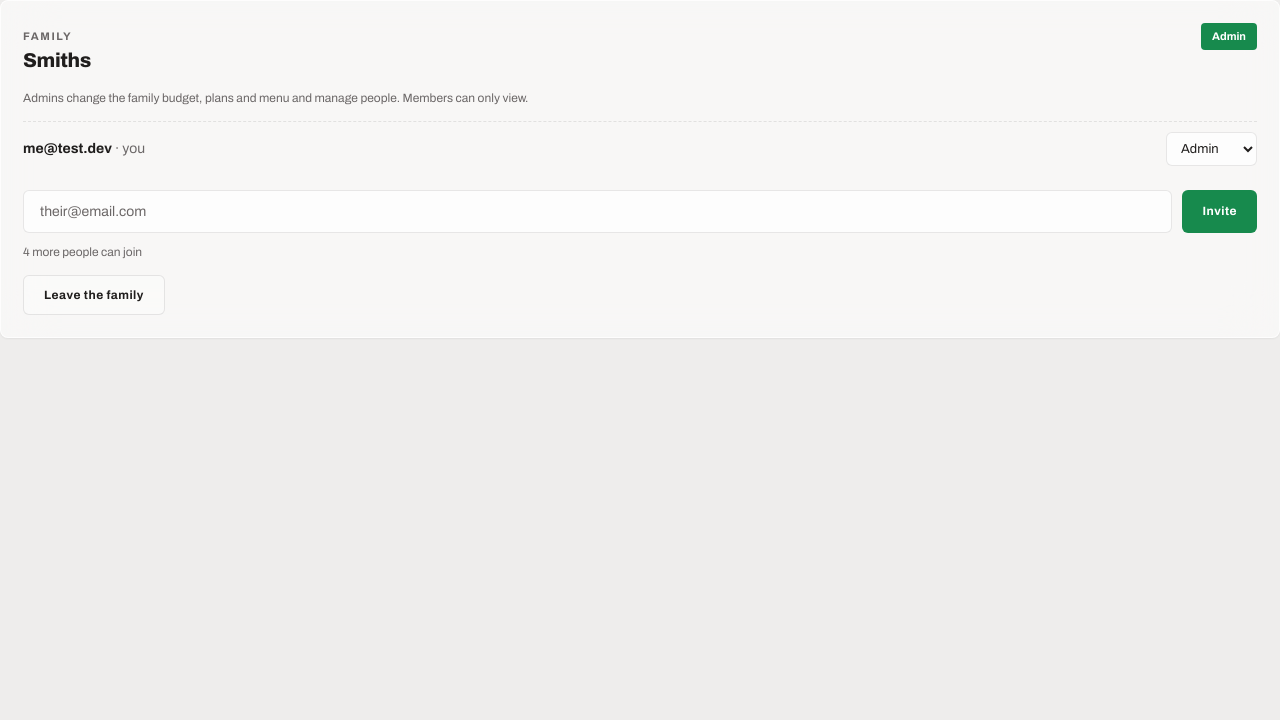
Test case: family section on the profile › warns the last person that leaving deletes the family
The image size is (1280, 720).
Click the button "Leave the family" at (94, 294), box x1=23 y1=274 x2=165 y2=314
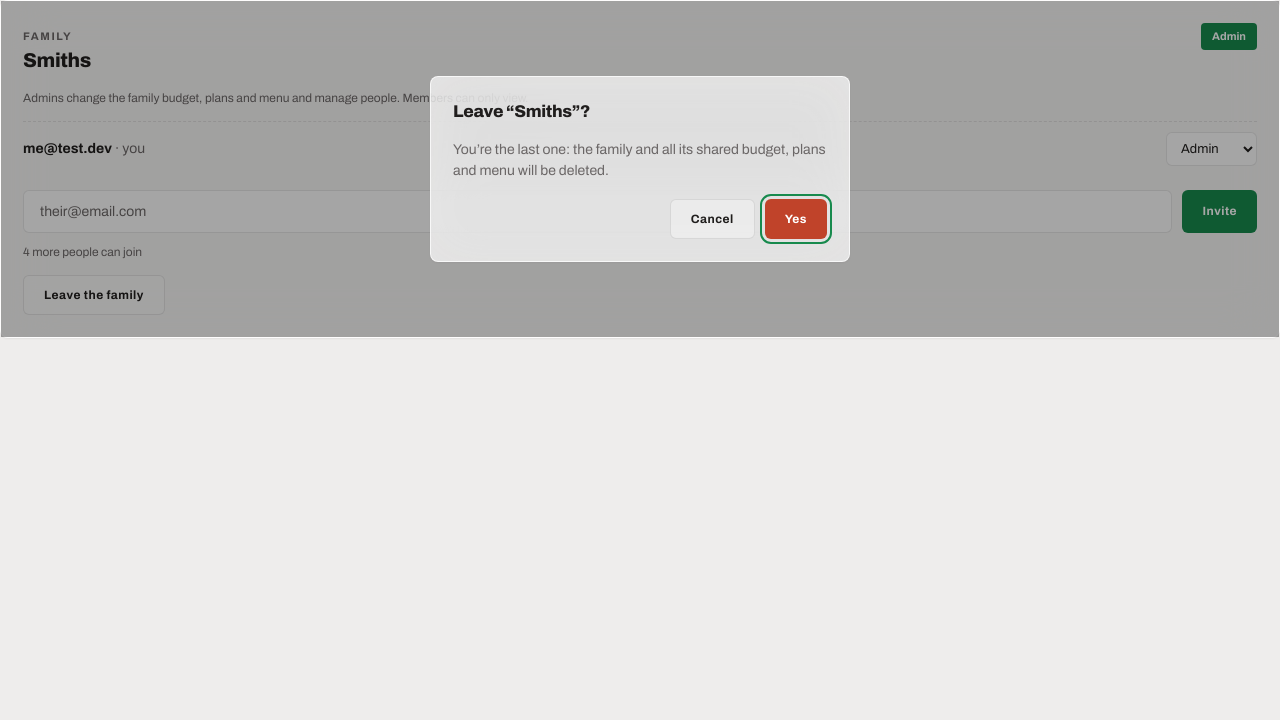
expect the dialog shows "the family and all its shared budget, plans and menu will be deleted": met, box x1=453 y1=142 x2=826 y2=178
Click the button "Yes" at (796, 218), box x1=765 y1=198 x2=827 y2=238
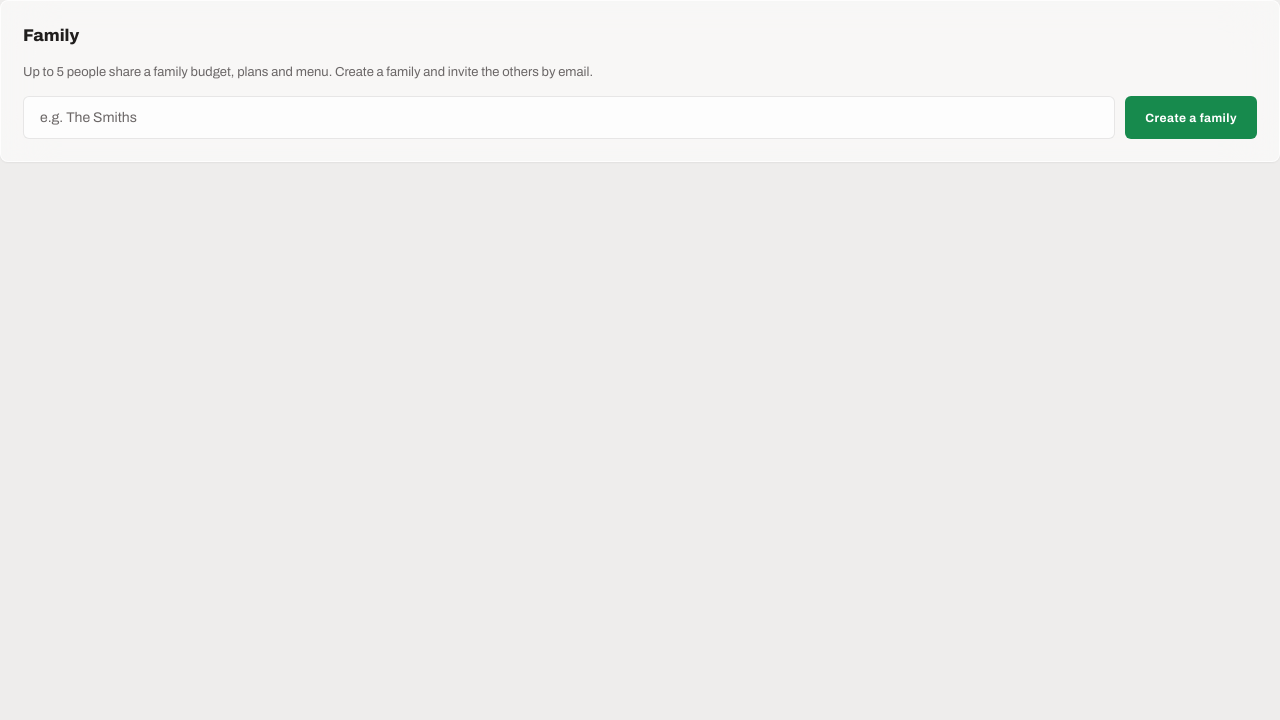
expect the button "Create a family" is shown: met, box x1=1125 y1=96 x2=1257 y2=139
